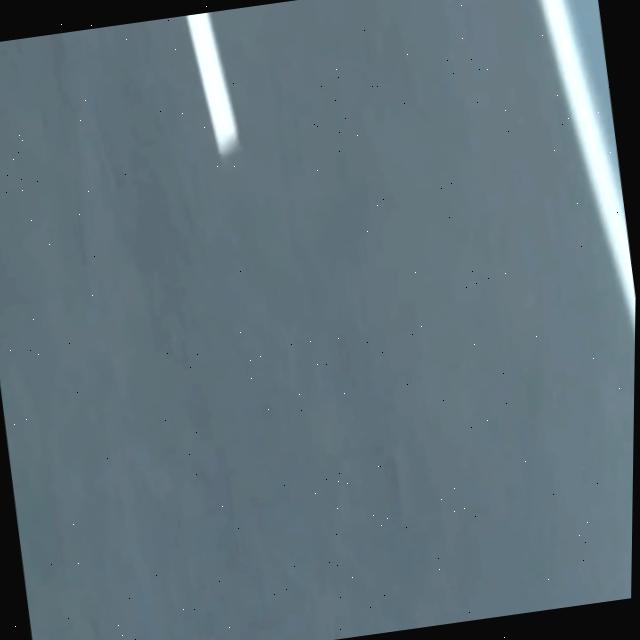center: (187, 14, 238, 157)
left: (541, 0, 636, 330)
